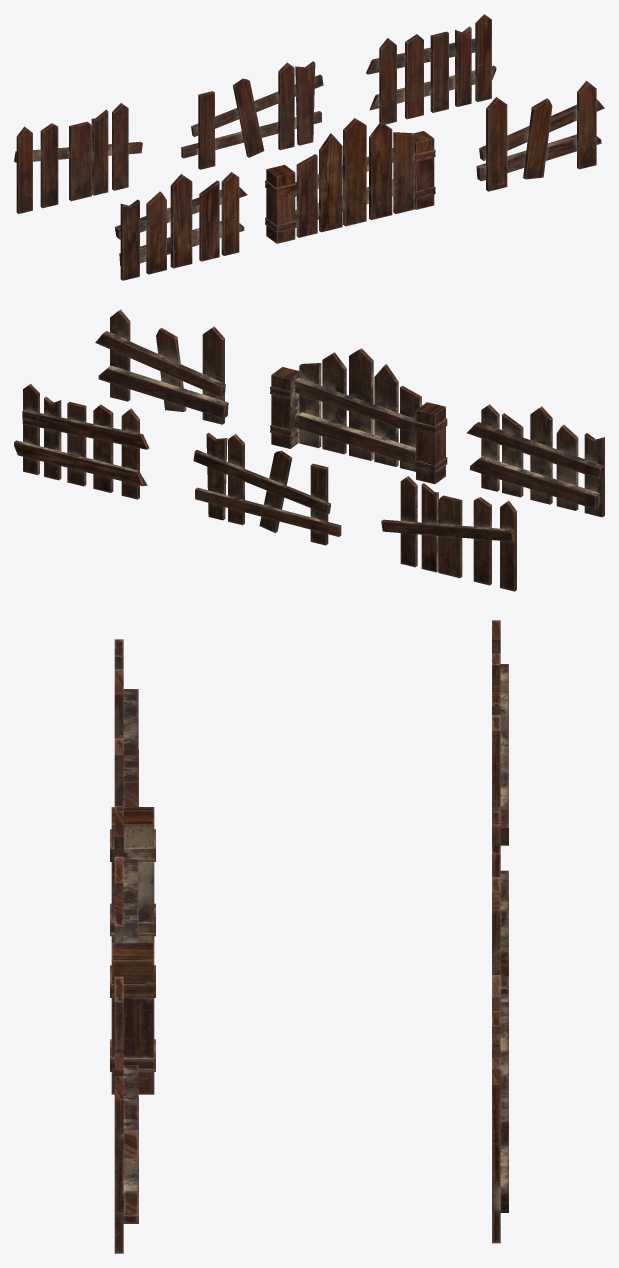
The model's file is runtime-fence-post.glb.
The picture shows the model from 3 angles, top to bottom: view 1: azimuth 30°, elevation 25°; view 2: azimuth 150°, elevation 25°; view 3: azimuth 270°, elevation 25°; orthographic projection. The views are drawn at different scales.
Parts seen in each view (by area): view 1: prop01; view 2: prop01; view 3: prop01.
Part boxes in pixels (x1,y1,x2,y2): prop01: (14, 14, 604, 280); prop01: (14, 309, 604, 591); prop01: (110, 620, 508, 1253).
Size of the model in its own units: 0.1229 by 0.0247 by 0.043.
1 material, 1 textured.
